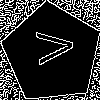V: (27, 28, 74, 67)
